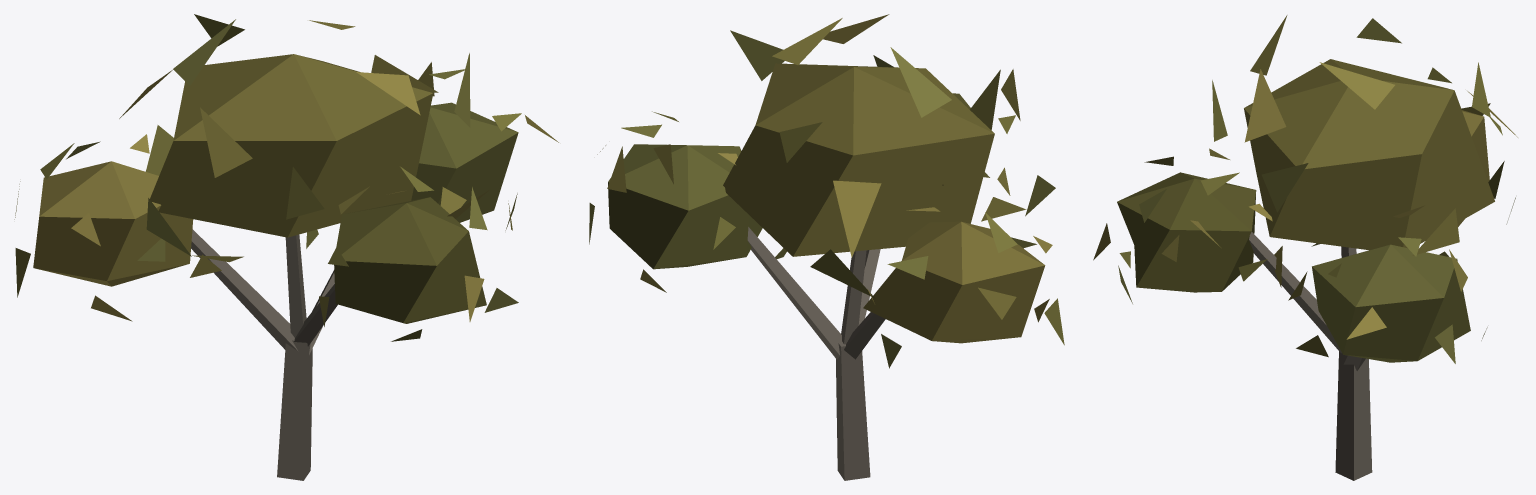
The model's file is hackberry-lite.glb.
3 renders of one model, left to right at view 1: azimuth 30°, elevation 25°; view 2: azimuth 150°, elevation 25°; view 3: azimuth 270°, elevation 25°, orthographic. The views are drawn at different scales.
Parts seen in each view (by area): view 1: hackberry-lite / foliage-core, hackberry-lite / foliage, hackberry-lite / wood; view 2: hackberry-lite / foliage-core, hackberry-lite / foliage, hackberry-lite / wood; view 3: hackberry-lite / foliage-core, hackberry-lite / foliage, hackberry-lite / wood.
Part boxes in pixels (box(x1,y1,x2,y2)): hackberry-lite / foliage-core: box(33, 54, 518, 323); hackberry-lite / foliage: box(14, 14, 558, 341); hackberry-lite / wood: box(191, 229, 337, 480); hackberry-lite / foliage-core: box(608, 63, 1045, 343); hackberry-lite / foliage: box(589, 14, 1064, 368); hackberry-lite / wood: box(747, 227, 885, 480); hackberry-lite / foliage-core: box(1117, 59, 1494, 362); hackberry-lite / foliage: box(1093, 15, 1517, 363); hackberry-lite / wood: box(1249, 232, 1372, 480).
Size of the model in its own units: 9.04 by 7.81 by 7.
